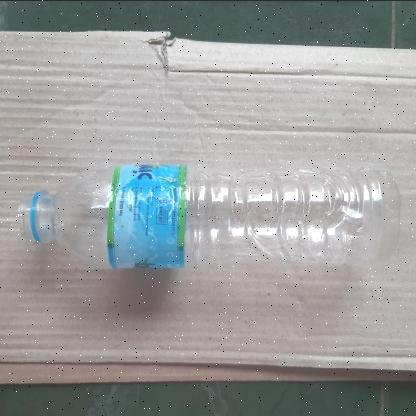Plastic Bottle: (15, 166, 405, 272)
